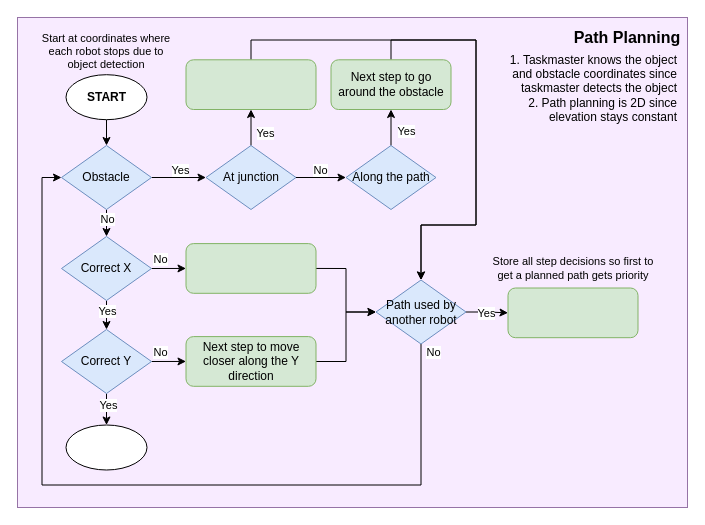
This 705x525 diagram has some shape labels left out. The shapes that lost their labels are listed below. From the top down, each one's box as (x1, y1, x2, y2) in pixels, then its label:
(185, 59, 316, 110): Next step to move one more step along the current direction
(185, 243, 316, 293): Next step to move closer along the X direction
(507, 287, 638, 338): Next step to stay in the same position
(65, 424, 147, 470): END
